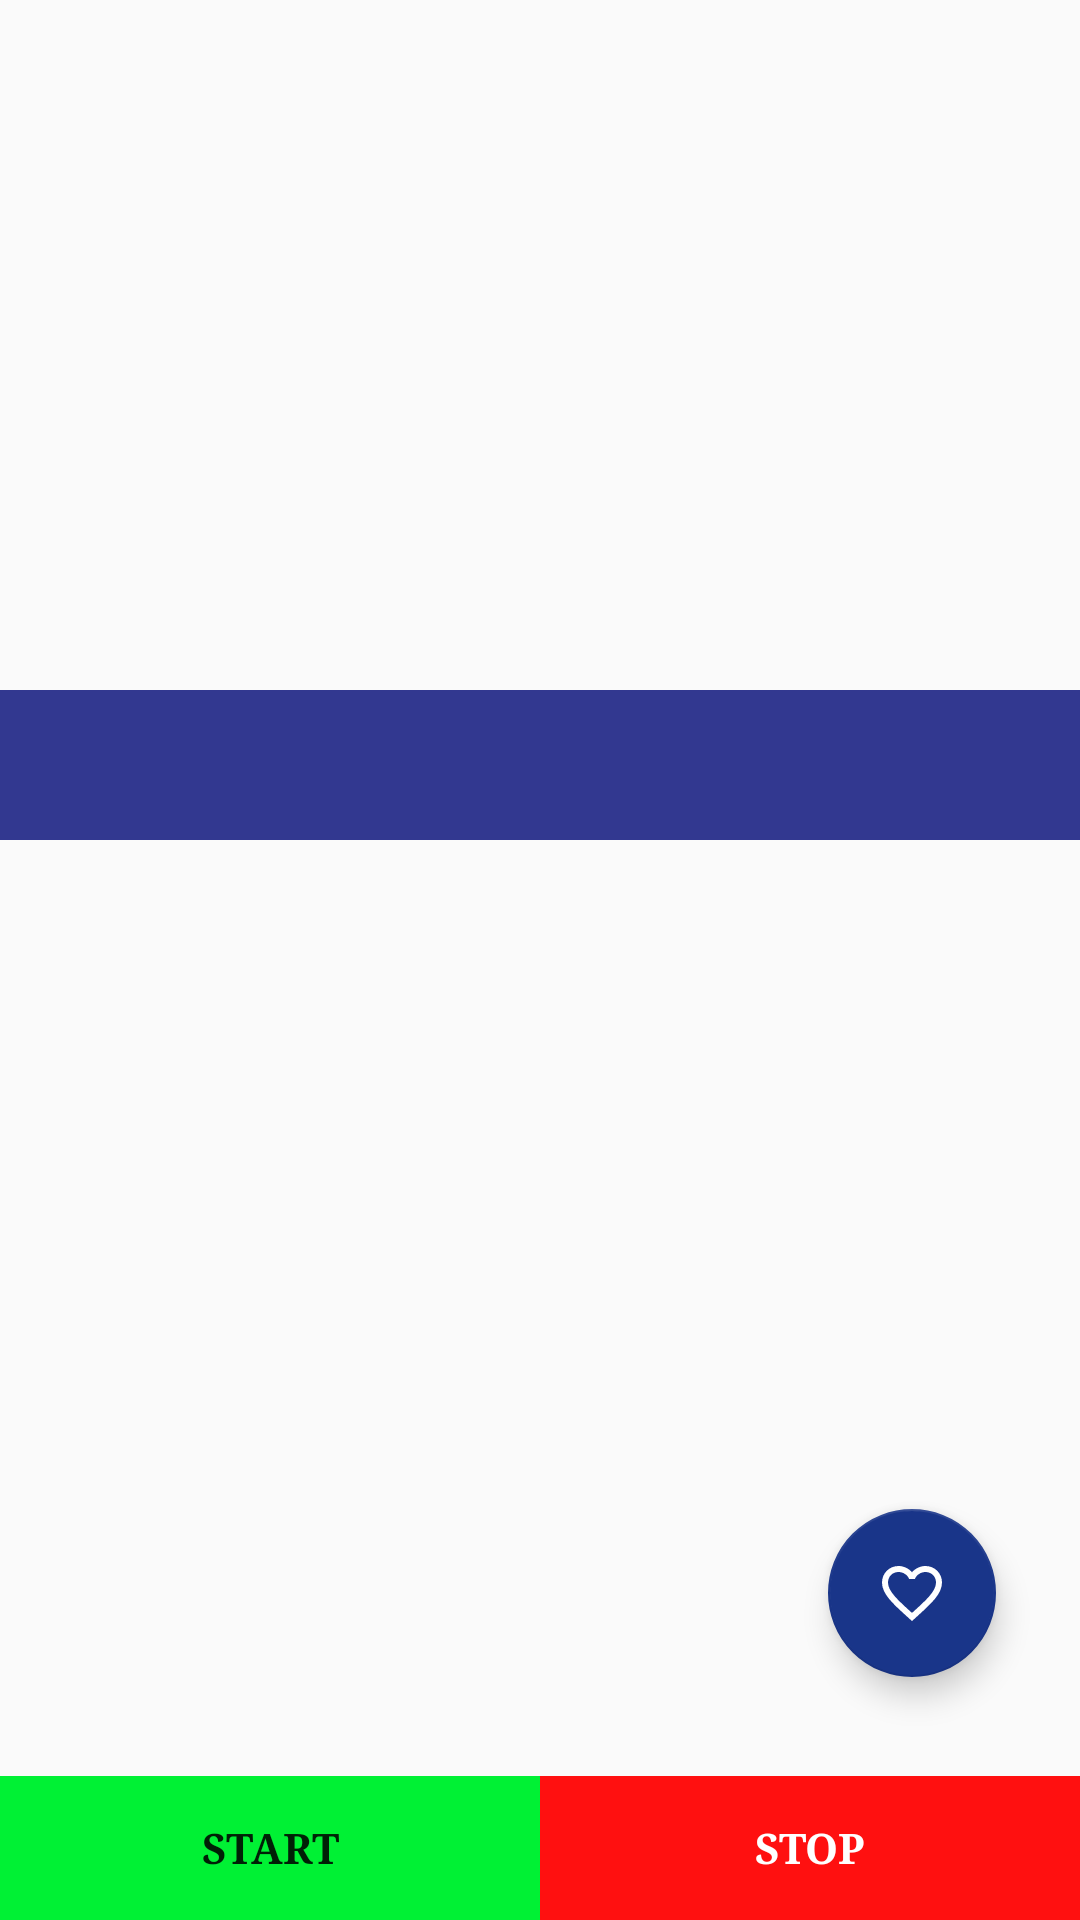

Screen size 1080px×1920px. Icon name, then its center in pixels as point (x, y):
favorite border: point (912, 1593)
